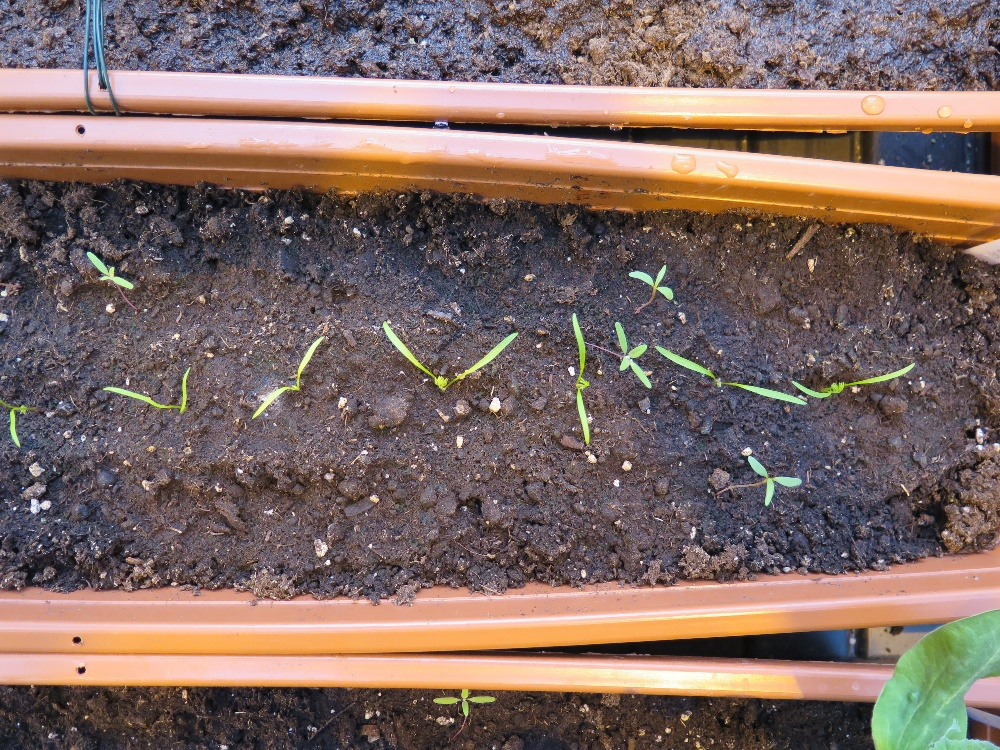crop: (653, 340, 809, 414), (381, 320, 520, 397), (250, 333, 325, 421), (781, 358, 918, 401), (101, 364, 191, 415), (571, 310, 591, 448)
weed: (747, 454, 803, 507), (614, 321, 652, 389), (430, 686, 498, 720), (84, 249, 135, 291), (626, 259, 673, 301)
